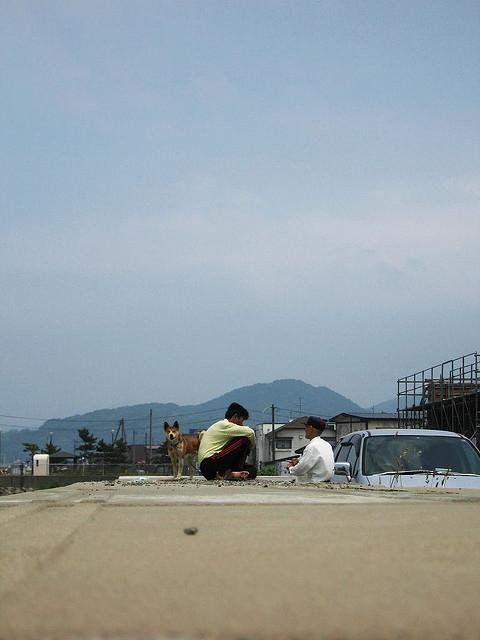car: (329, 429, 480, 490)
